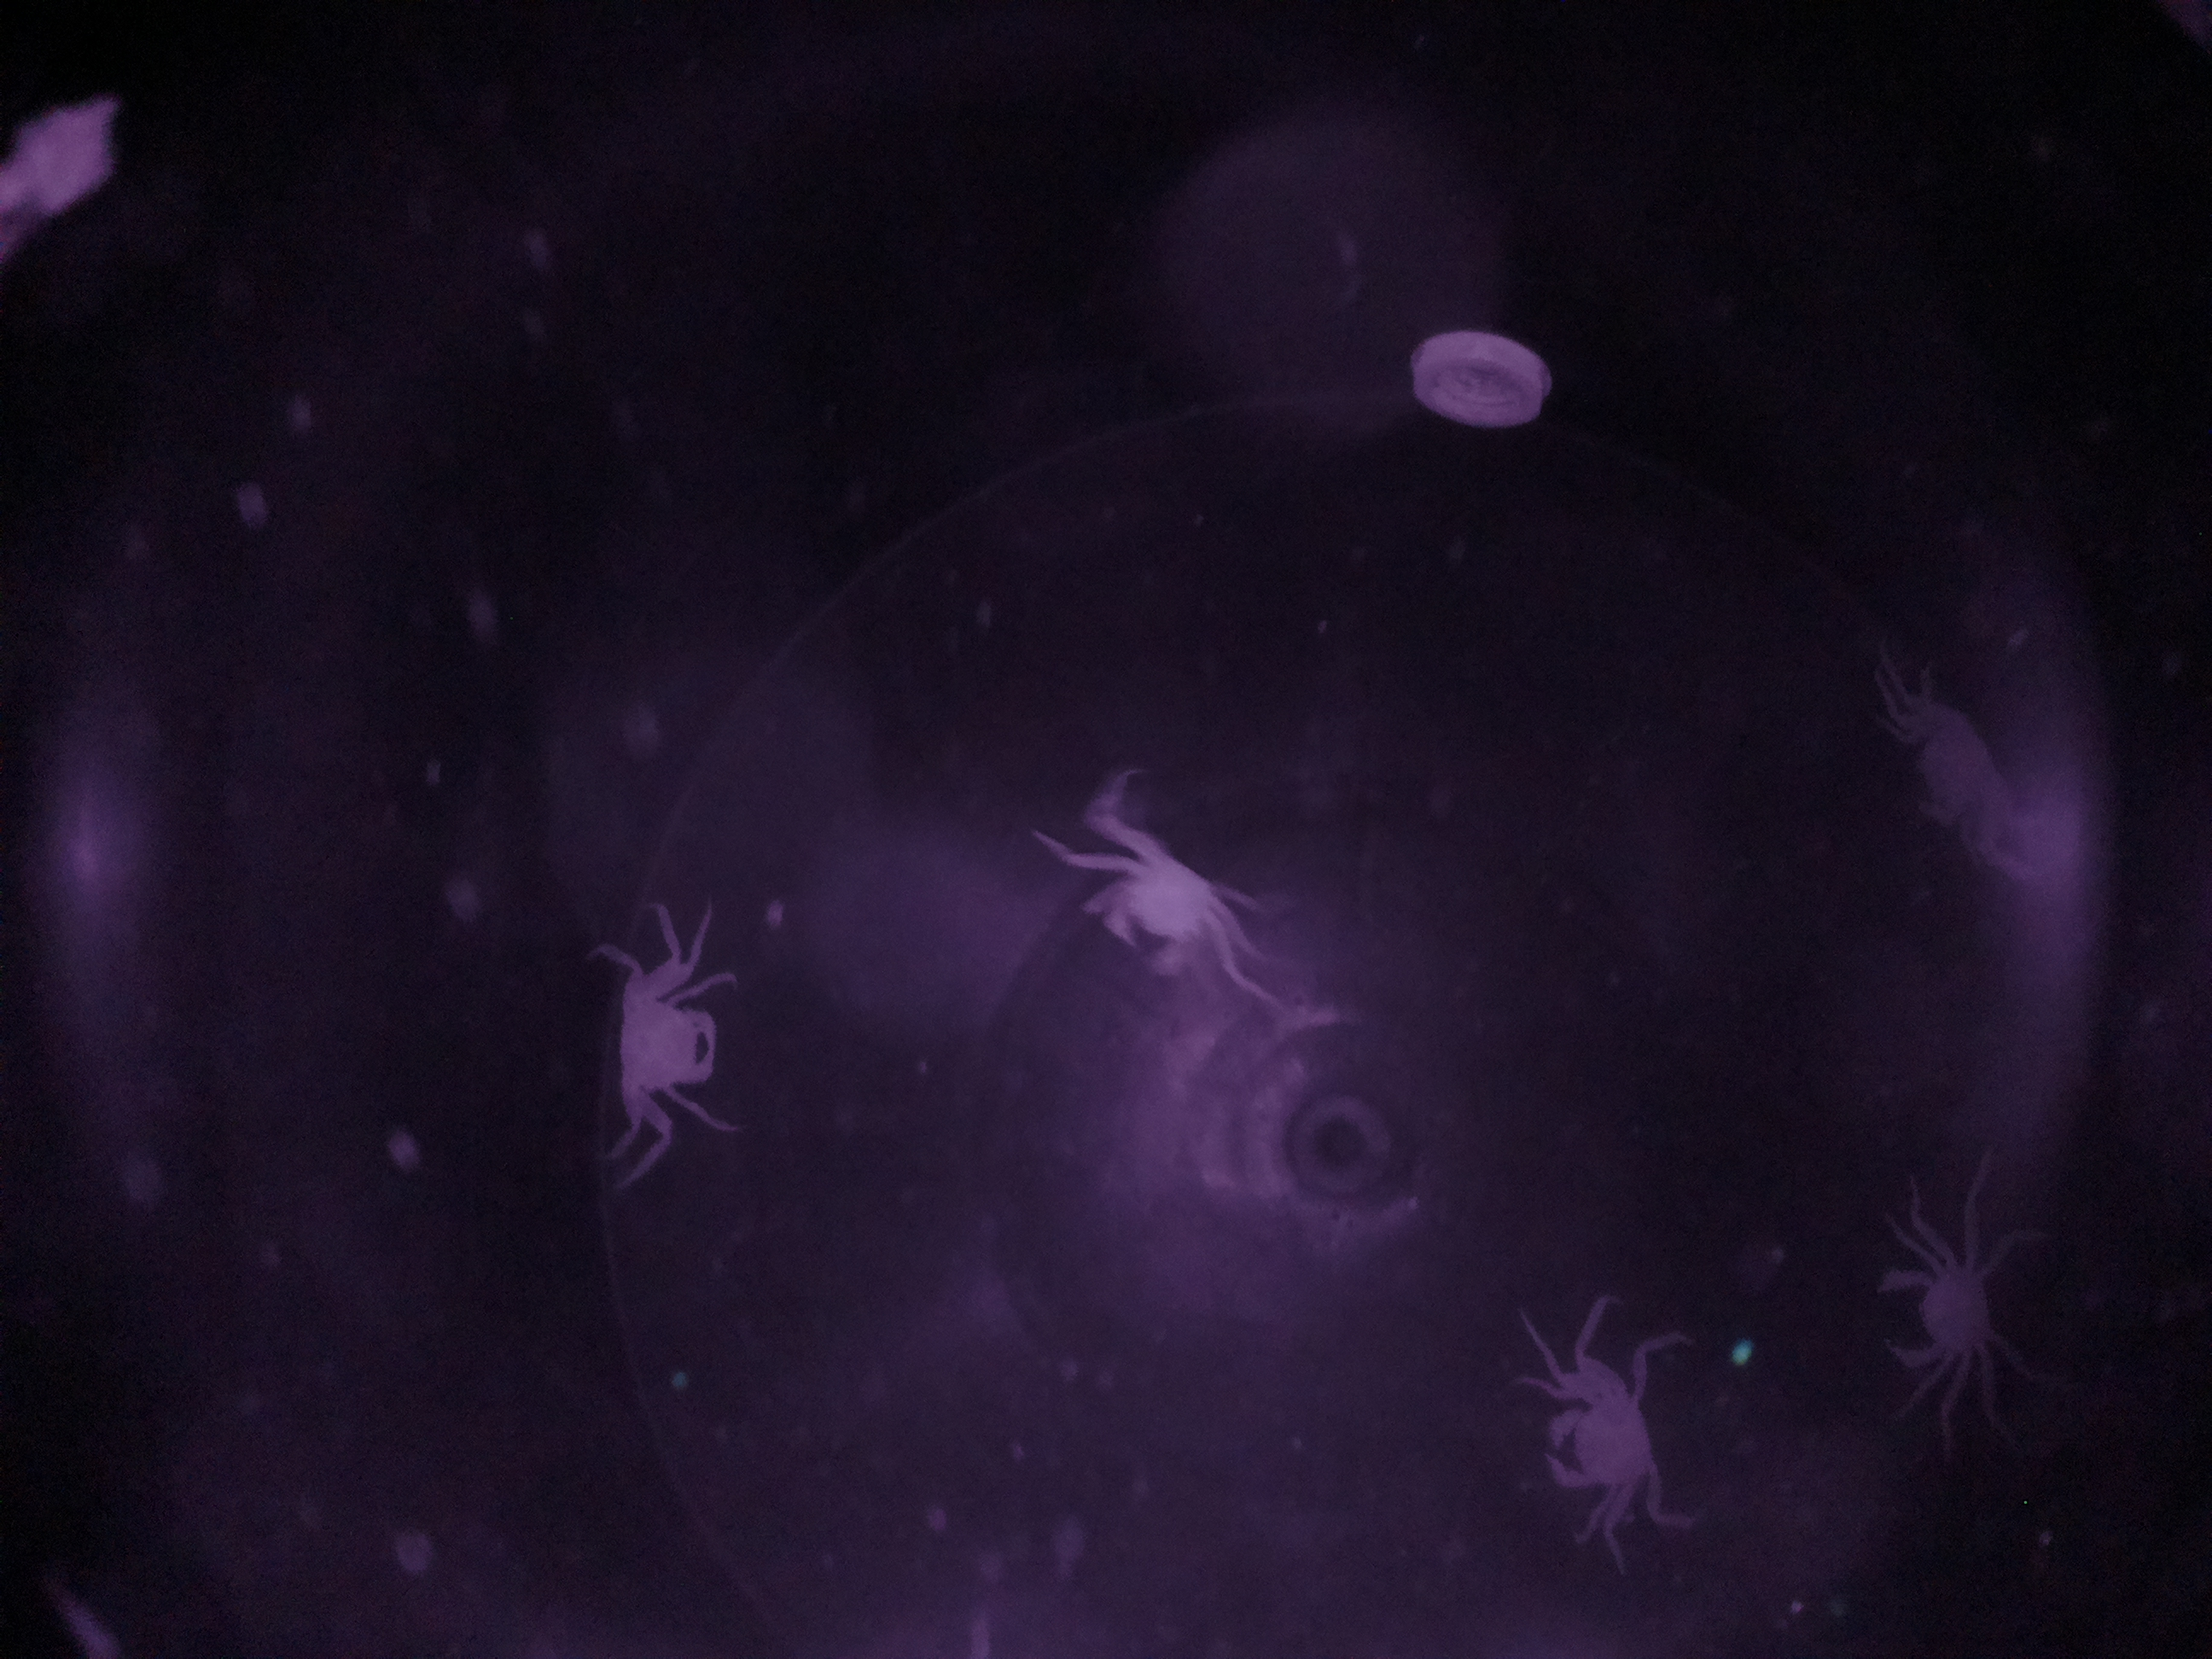Crab: (1519, 1352, 1679, 1527), (608, 953, 735, 1145)
